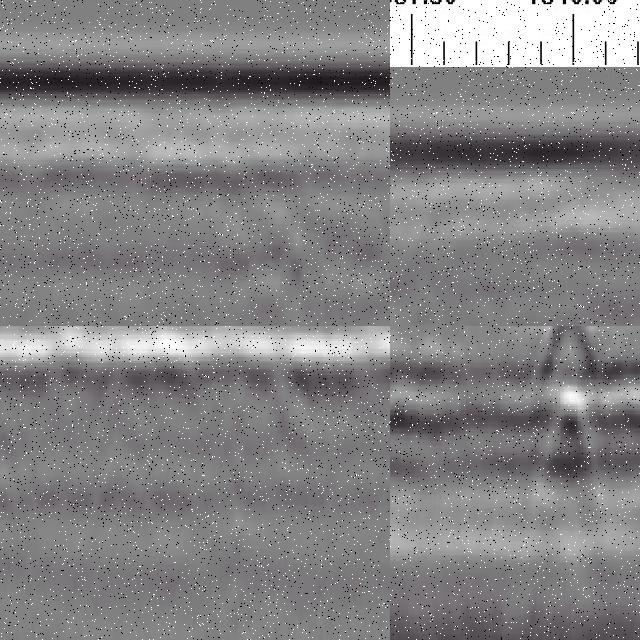crack: (537, 327, 597, 545)
